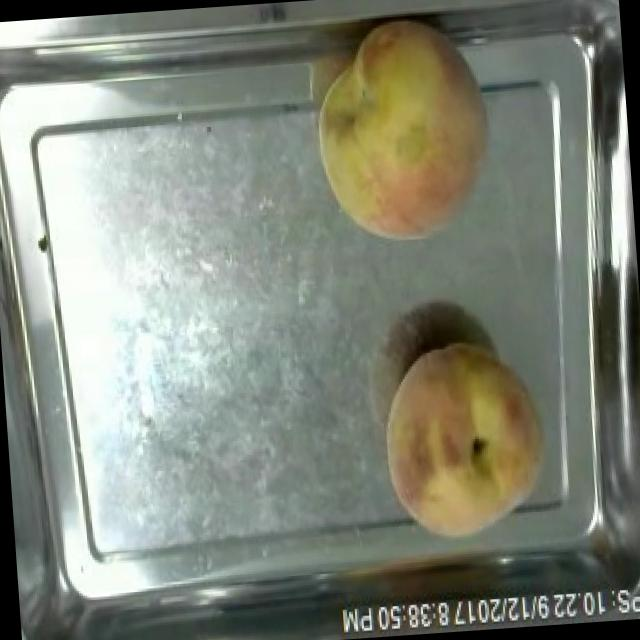Fruit: (299, 7, 503, 256), (368, 328, 564, 554)
